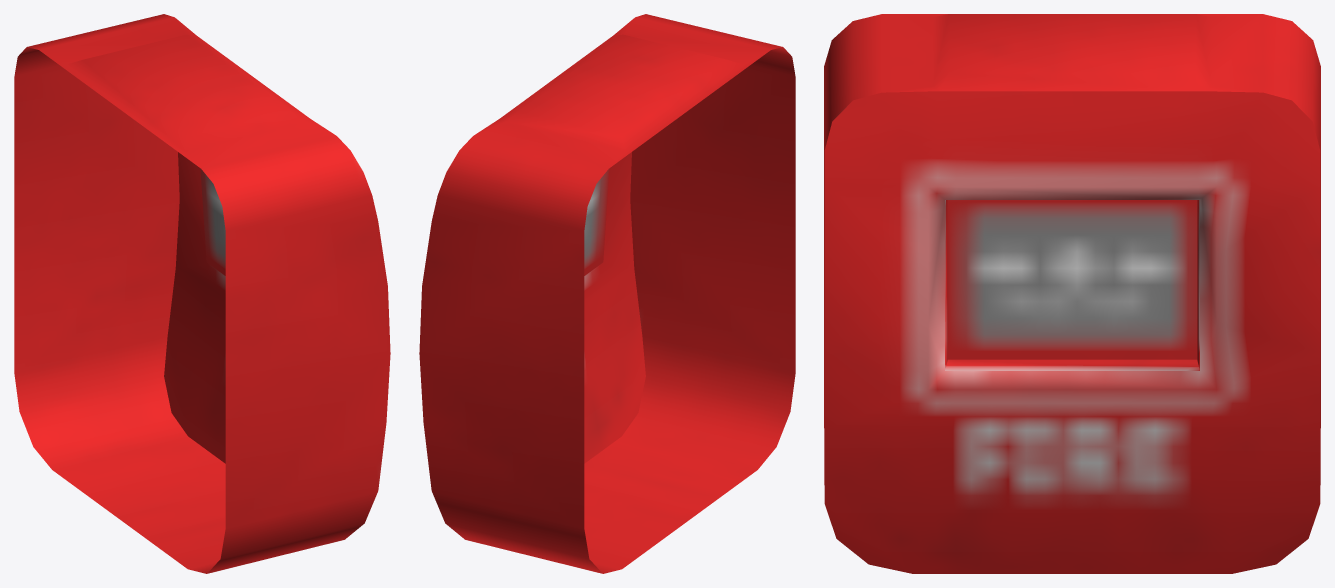
File: SM_FireAlarm1.fbx
The picture shows the model from 3 angles, left to right: view 1: azimuth 30°, elevation 25°; view 2: azimuth 150°, elevation 25°; view 3: azimuth 270°, elevation 25°; orthographic projection. The views are drawn at different scales.
Visible parts, largest first — view 1: SM_FireAlarm1_LOD0; view 2: SM_FireAlarm1_LOD0; view 3: SM_FireAlarm1_LOD0.
Part boxes in pixels (x1=…): SM_FireAlarm1_LOD0: x1=14, y1=14, x2=390, y2=573; SM_FireAlarm1_LOD0: x1=419, y1=14, x2=795, y2=573; SM_FireAlarm1_LOD0: x1=824, y1=14, x2=1320, y2=573.
Size of the model in its own units: 6.85 by 15.11 by 16.49.
